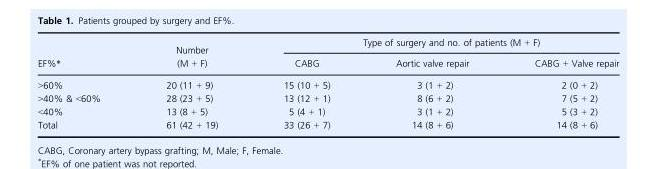table: (36, 36, 618, 129)
table column: (362, 36, 501, 129), (132, 36, 250, 129), (501, 36, 618, 129), (250, 36, 362, 129), (36, 36, 132, 129)
table column header: (36, 36, 618, 73)
table row: (36, 52, 618, 73), (36, 73, 618, 91), (36, 36, 618, 52), (36, 91, 618, 104), (36, 104, 618, 117), (36, 117, 618, 129)
table spanning cell: (250, 36, 618, 52), (132, 36, 250, 73), (36, 36, 132, 73)
